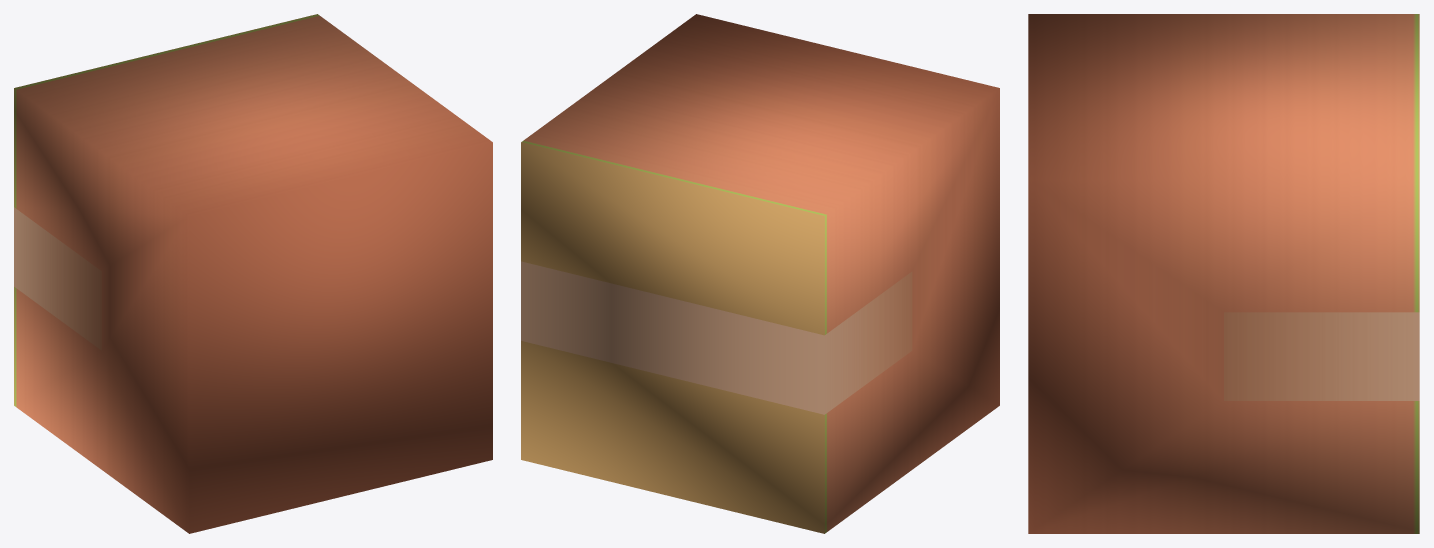
Rendered from box-small.002.obj.
The picture shows the model from 3 angles, left to right: view 1: azimuth 30°, elevation 25°; view 2: azimuth 150°, elevation 25°; view 3: azimuth 270°, elevation 25°; orthographic projection. The views are drawn at different scales.
Visible parts, largest first — view 1: box-small.002; view 2: box-small.002; view 3: box-small.002.
Part boxes in pixels (x1,y1,x2,y2): box-small.002: [14, 14, 492, 533]; box-small.002: [521, 14, 999, 533]; box-small.002: [1028, 14, 1419, 533].
Bounding box in the file's own units: 0.5 × 0.5 × 0.5.
1 material, 1 textured.
